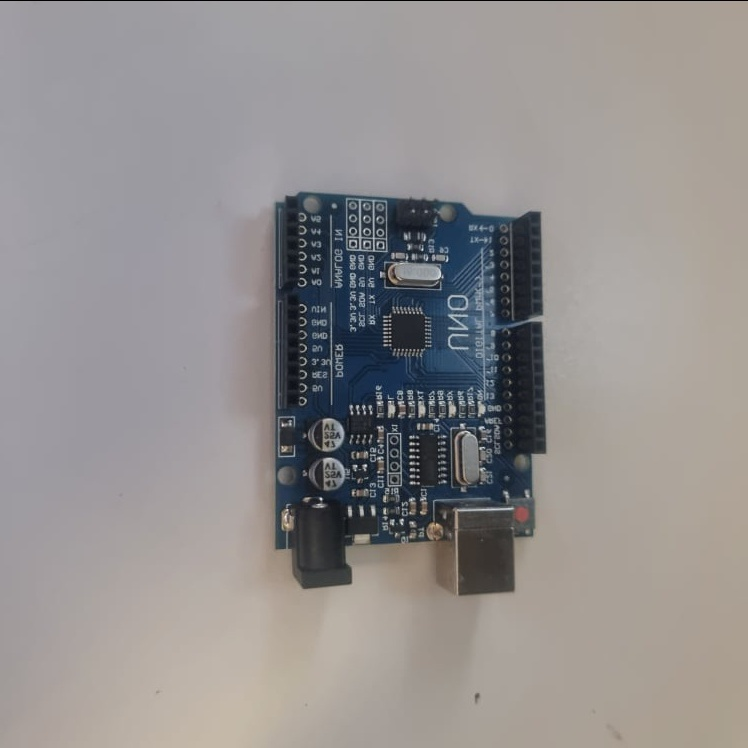UNO R3: (271, 190, 548, 595)
